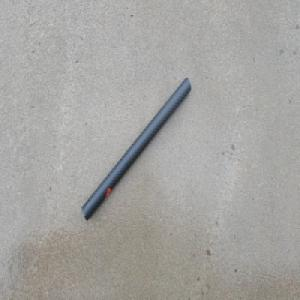LuggagePart: (77, 76, 193, 229)
